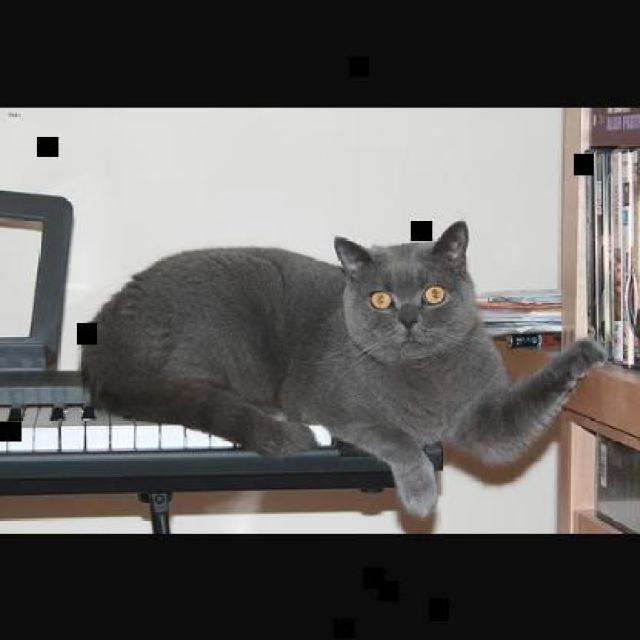unauthorized: (76, 218, 610, 518)
